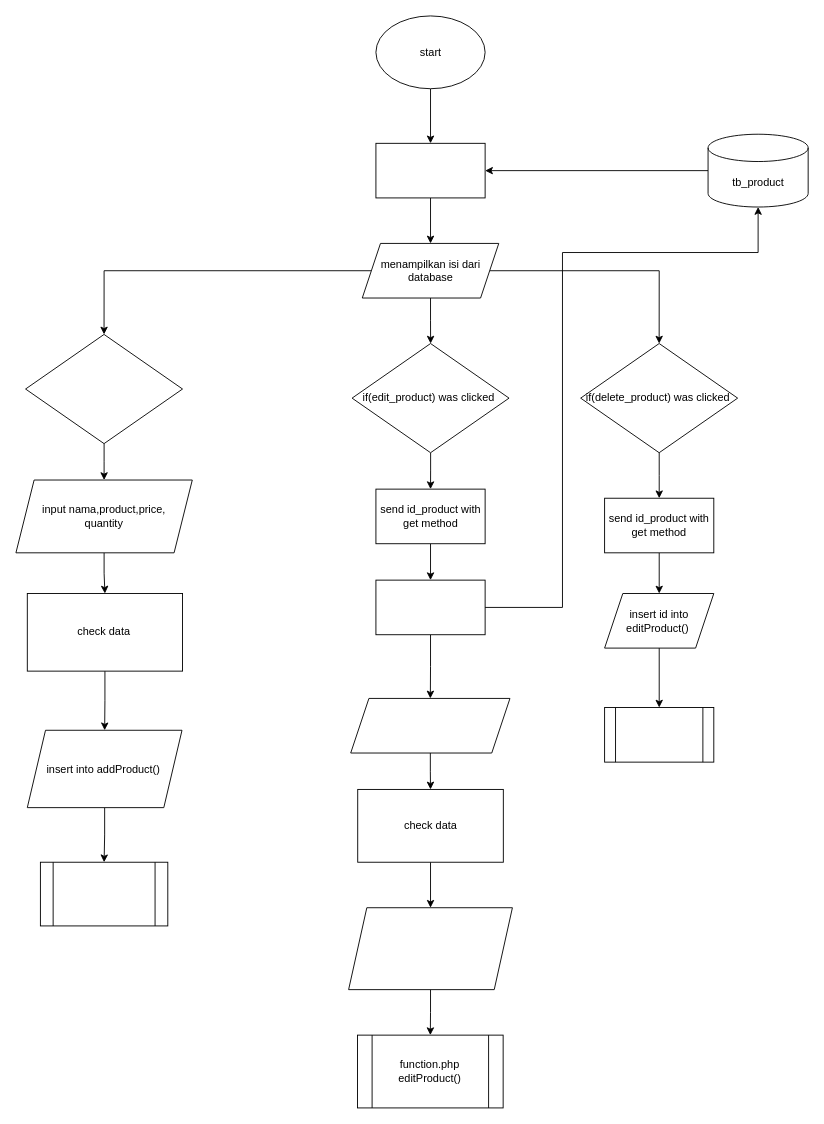
Image size: 824x1124. Some labels were removed from this diagram. Each missing label, with the centre of its shape:
ambil data menurut id dari database: (430,607)
function.php: (659,734)
function.php addProduct(): (103,893)
if(add_product) was clicked: (104,389)
input data yang ingin diedit: (430,725)
insert into editProduct(): (430,948)
proses menampilkan data dari database: (430,170)
